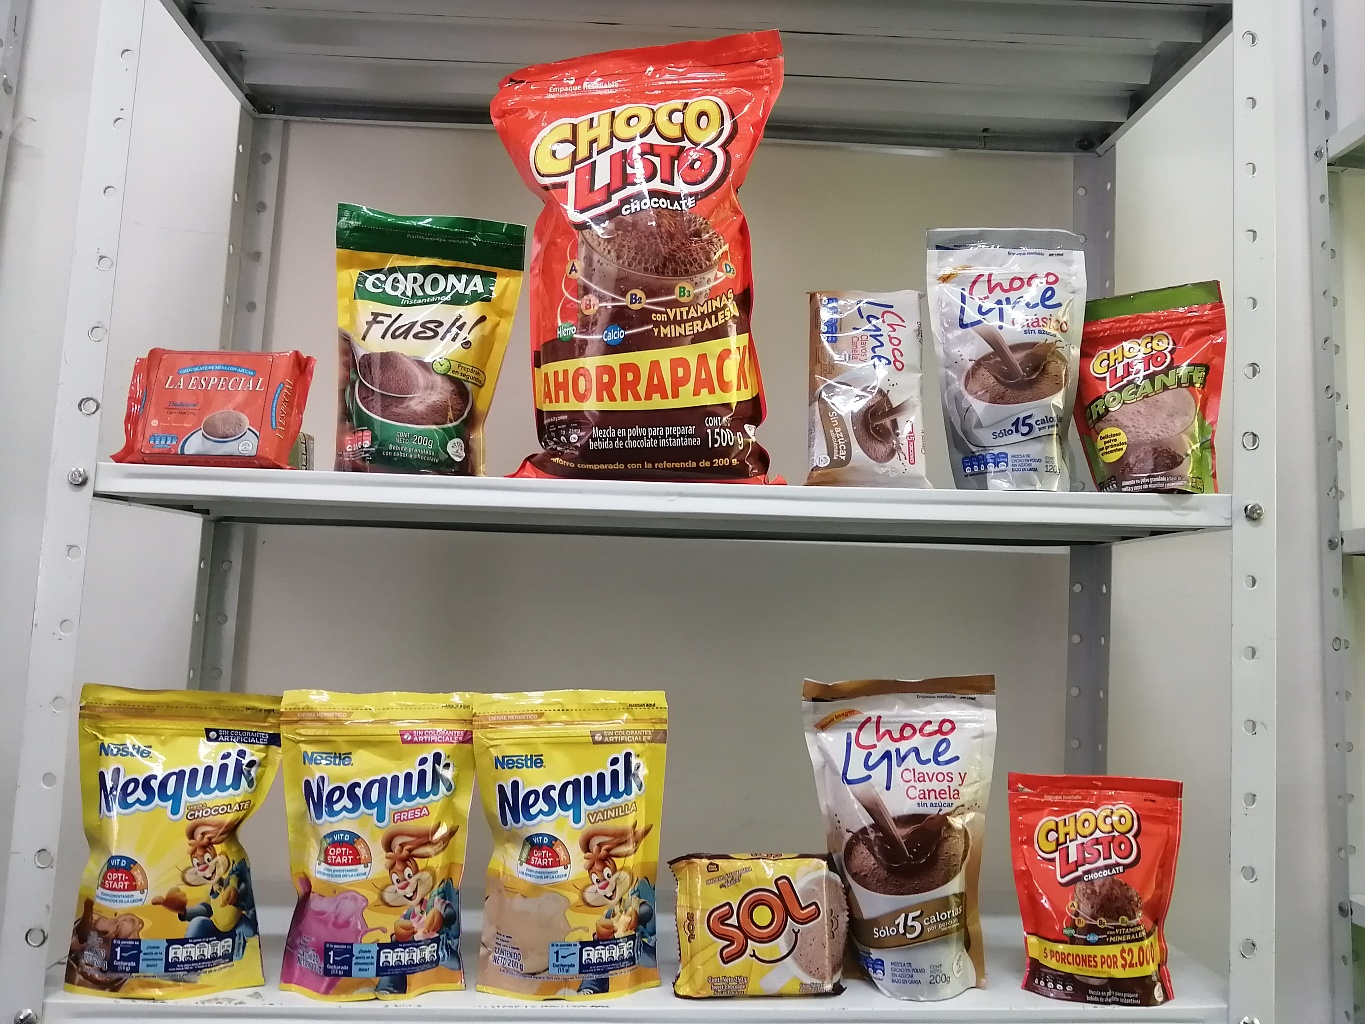COL0170102DYP10000: (1049, 268, 1247, 511)
COL0170103DYP1,500: (485, 11, 817, 488)
COL0170303DYP20000: (53, 664, 287, 1008)
COL0170305DYP20000: (260, 677, 485, 1011)
COL0170306DYP20000: (447, 655, 691, 1015)
